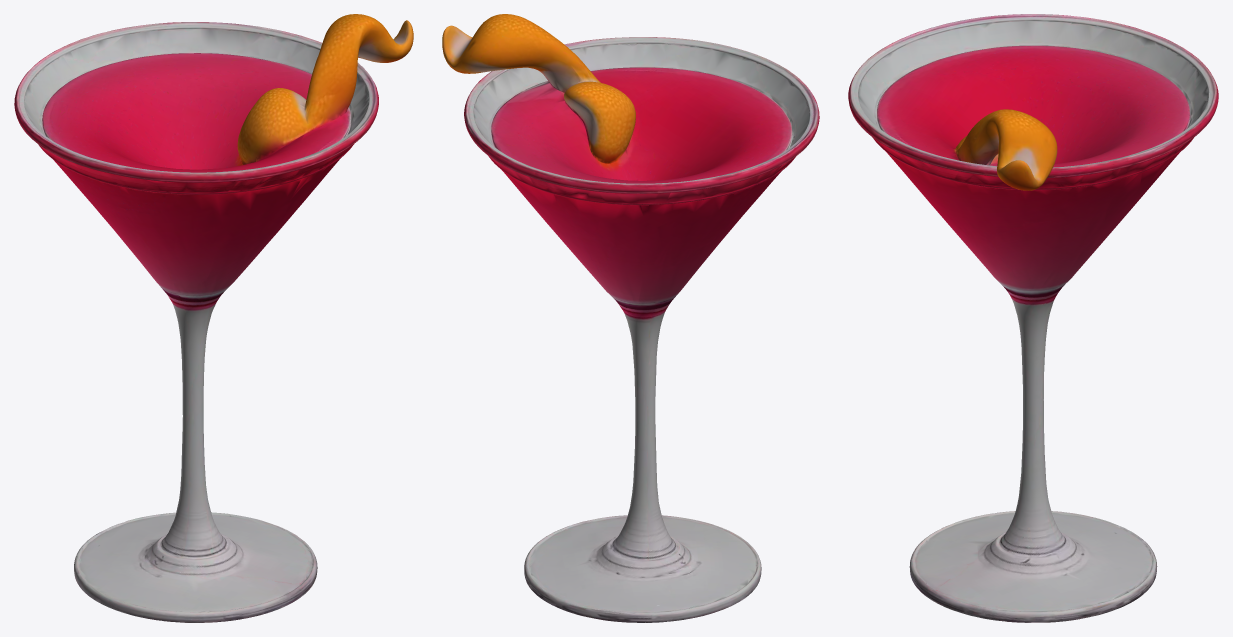
Rendered from karaoke.glb.
3 views of the same model, side by side, from view 1: azimuth 30°, elevation 25°; view 2: azimuth 150°, elevation 25°; view 3: azimuth 270°, elevation 25° (orthographic). The views are drawn at different scales.
Visible parts, largest first — view 1: material; view 2: material; view 3: material.
Part boxes in pixels (box(x1,y1,x2,y2)): material: box(14, 14, 413, 622); material: box(442, 14, 819, 622); material: box(848, 14, 1218, 622).
Size of the model in its own units: 0.7439 by 1.02 by 0.6425.
Materials: 1 (1 with a texture image).
